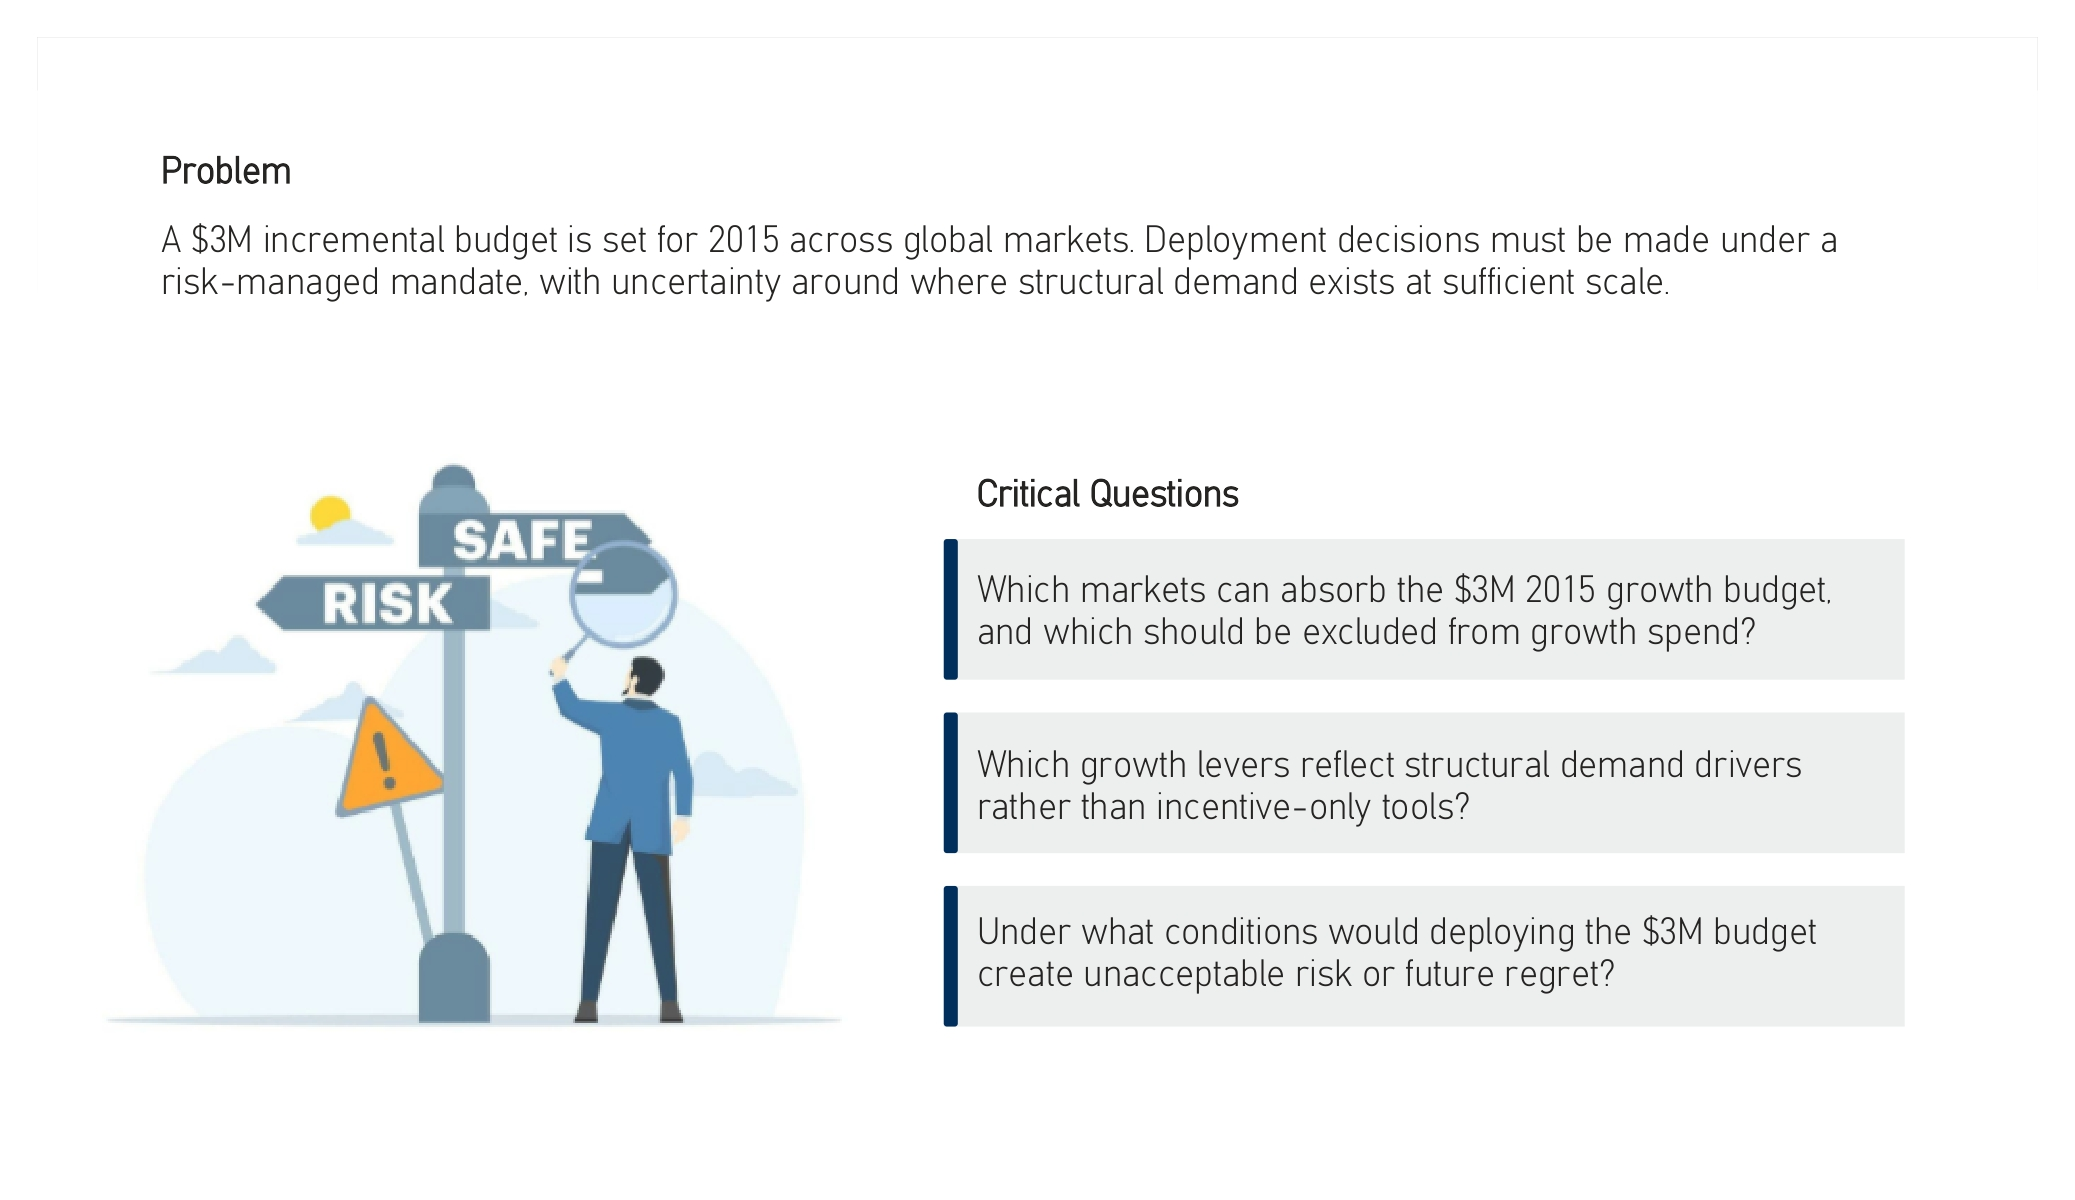

What the dashboard file says about the page in this screenshot:
{"tool":"powerbi","page":{"name":"Problem & Critical Question","canvas":[1280,720],"ordinal":1},"visuals":[{"type":"textbox","box":[595.9,272.5,586.9,143.1],"z":0,"group":"g1"},{"type":"textbox","title":"Problem","box":[73.8,66.2,1118.1,131.9],"z":0},{"type":"textbox","box":[595.9,543.1,603.1,92.5],"z":1000,"group":"g1"},{"type":"group","id":"g1","title":"Critical Questions","box":[595.9,272.5,603.1,363.1],"z":1000},{"type":"textbox","box":[595.9,445,603.1,74.4],"z":2000,"group":"g1"}]}

Visuals, with their boxes in screenshot pixels (x1, y1, x2, y2):
textbox: (969,463,1886,687)
"Problem" textbox: (153,141,1900,347)
textbox: (969,886,1911,1031)
"Critical Questions" group: (969,463,1911,1031)
textbox: (969,733,1911,849)
